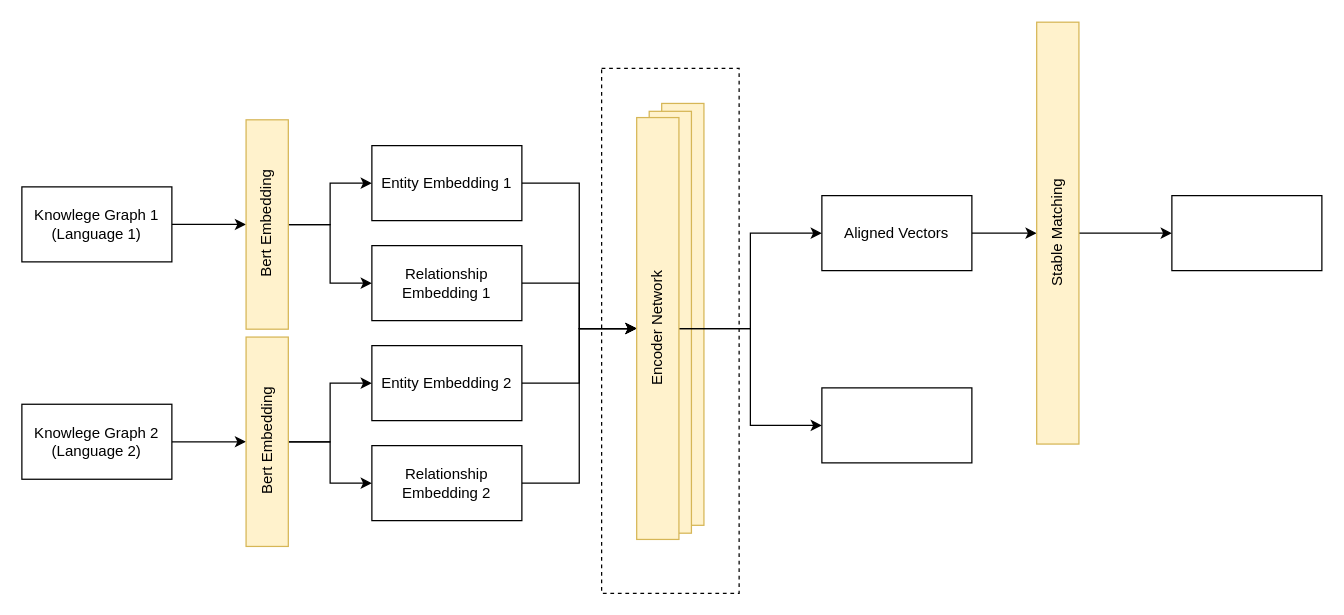
Some shapes in this 1344 by 615 pixel diagram are drawn without their labels. The shapes that lost their labels are listed below. From the top down, each one's box as (x1, y1, x2, y2) in pixels, then its label:
(1171, 194, 1322, 271): Entity Matches
(821, 387, 972, 463): Loss
